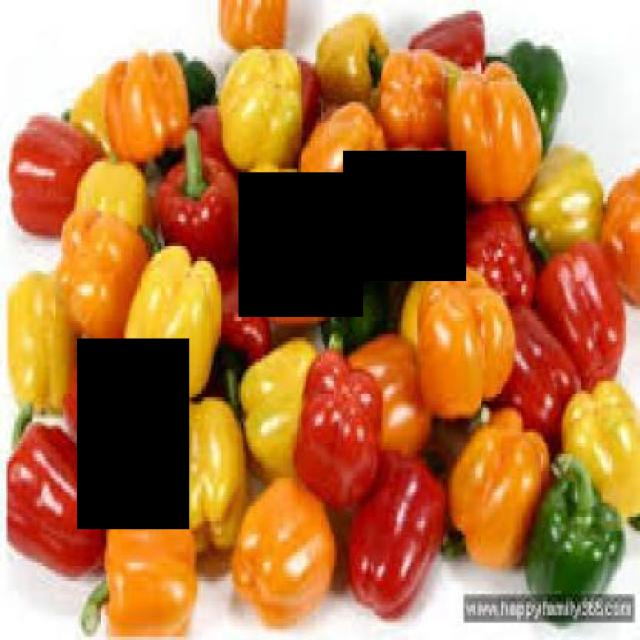Capsicum: (77, 339, 189, 529), (239, 173, 363, 318), (344, 152, 467, 280)
